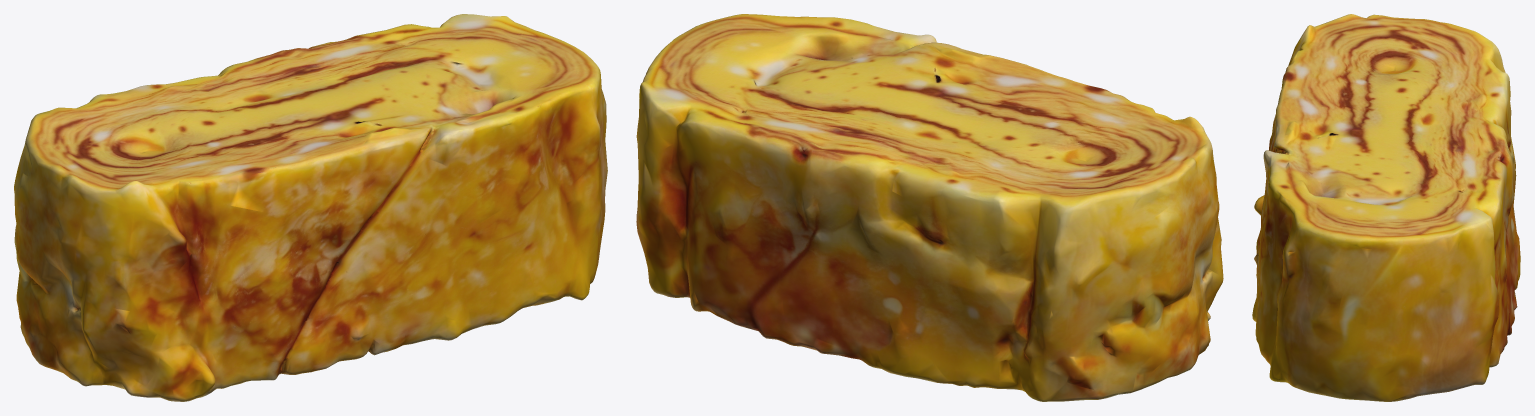
Rendered from Meshy_AI_Japanese_rolled_omele_0606055912_texture.glb.
3 views of the same model, side by side, from view 1: azimuth 30°, elevation 25°; view 2: azimuth 150°, elevation 25°; view 3: azimuth 270°, elevation 25° (orthographic). The views are drawn at different scales.
Size of the model in its own units: 2 by 0.7532 by 1.01.
Materials: 1 (1 with a texture image).
